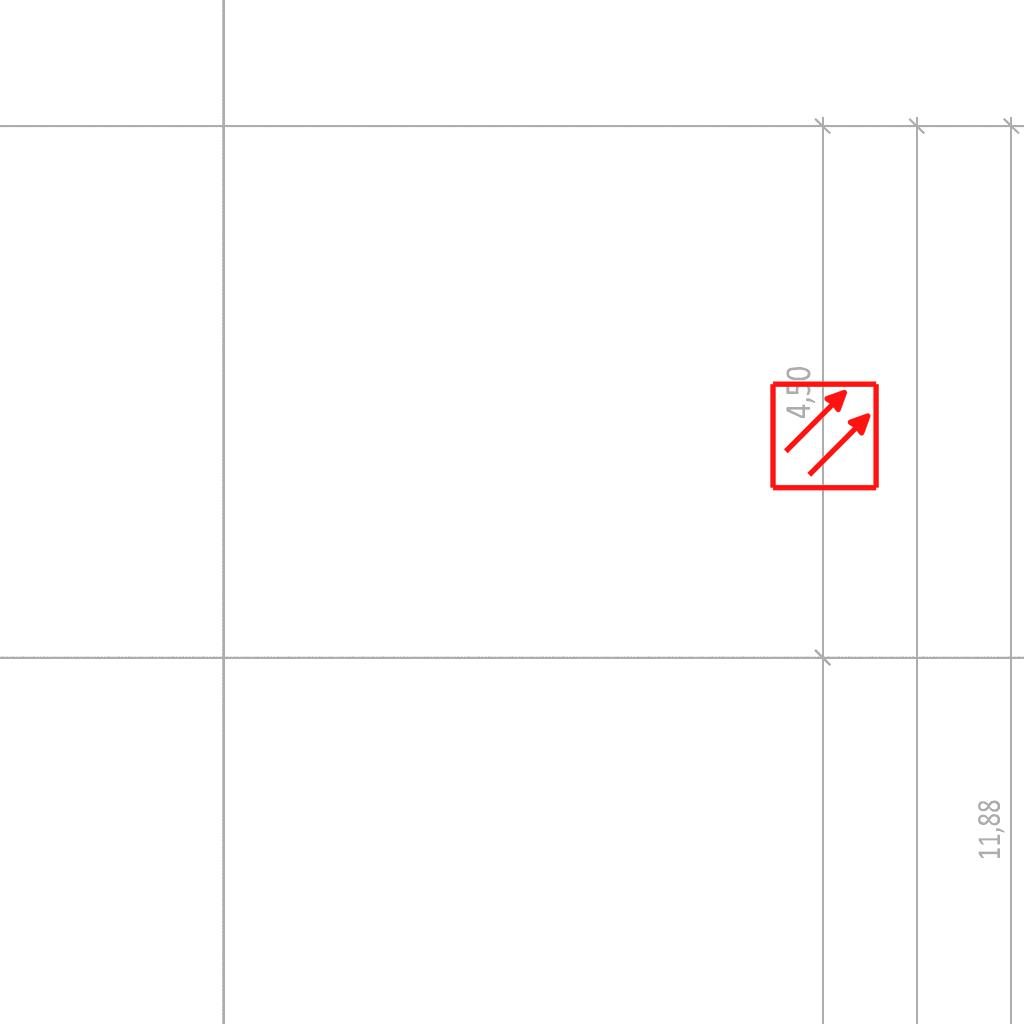RMO_Rauchmelder_optischer: (768, 379, 881, 492)
